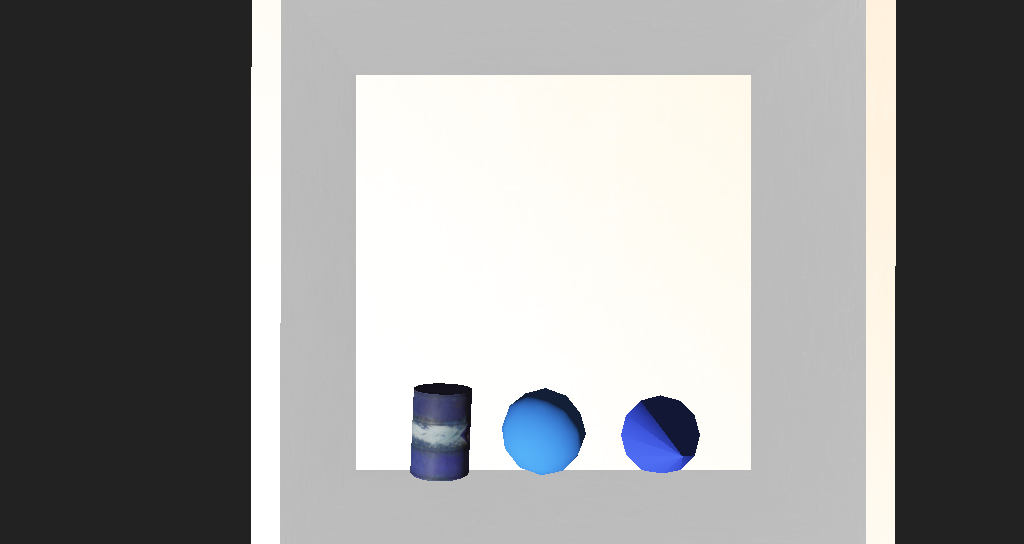cone: (391, 327, 445, 379)
cylinder: (559, 336, 627, 389)
sphere: (468, 332, 529, 375)
